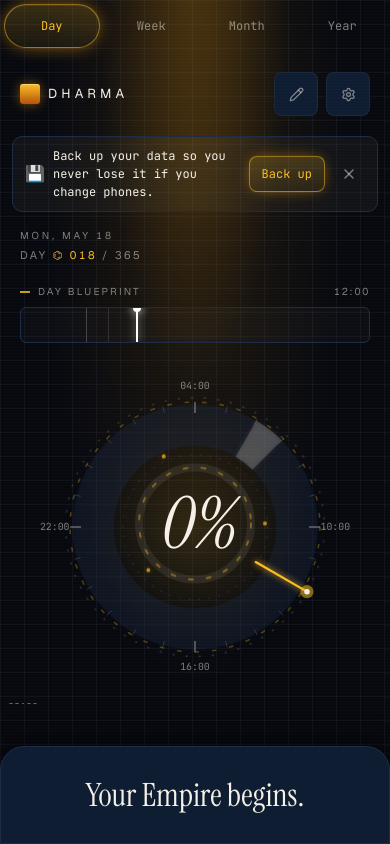
Test case: C-m9e-010: AppShell — tap a month in YearView opens MonthView at that month › tapping a MonthCell opens MonthView at the tapped month
(page scrolled)
Note: Switch to Year
Click the tab "Year" at (342, 26), box top-left (294, 0), bottom-right (389, 52)
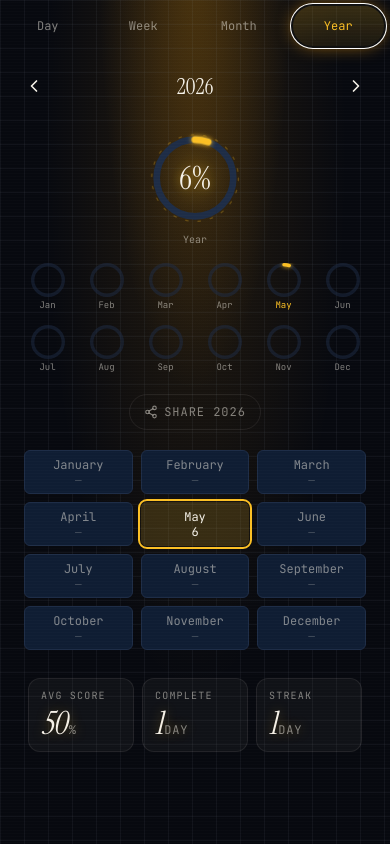
expect the list named "months of" is shown: met, box top-left (12, 438), bottom-right (378, 662)
Note: Tap January 2026 (pre-start, no data)
Click the button with aria-label "January 2026" at (78, 472), box top-left (24, 450), bottom-right (133, 494)
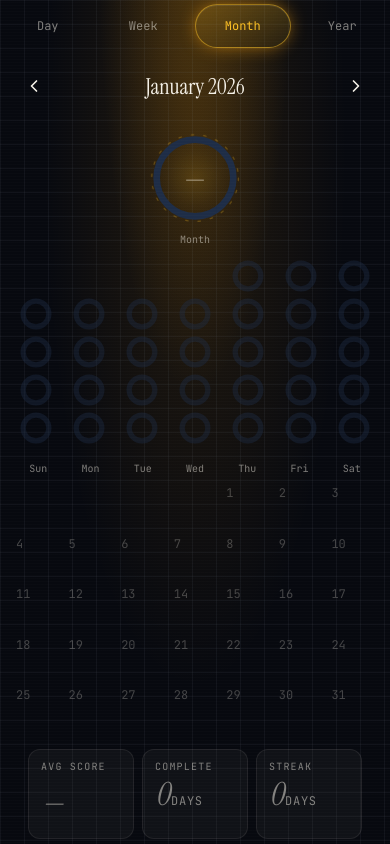
expect the table is shown: met, box top-left (12, 457), bottom-right (378, 733)
expect the heading reads "January 2026": met, box top-left (145, 72), bottom-right (245, 100)
